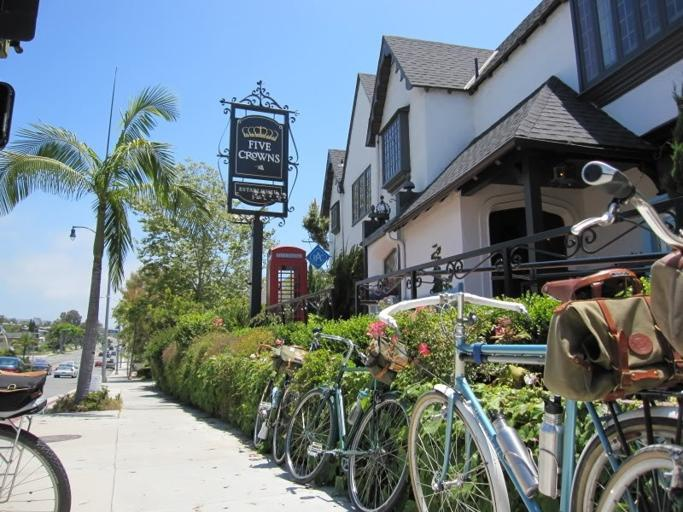non-vehicle: (377, 282, 682, 511), (571, 161, 682, 511), (284, 327, 417, 510), (0, 357, 70, 511), (252, 338, 313, 465)
